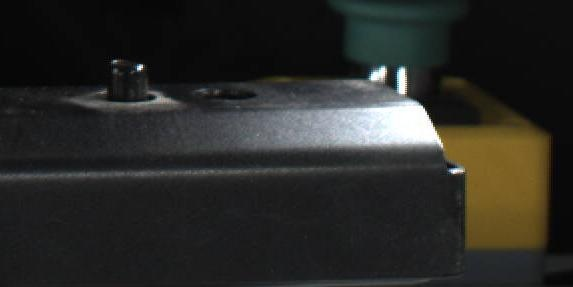screw: (102, 55, 153, 102)
